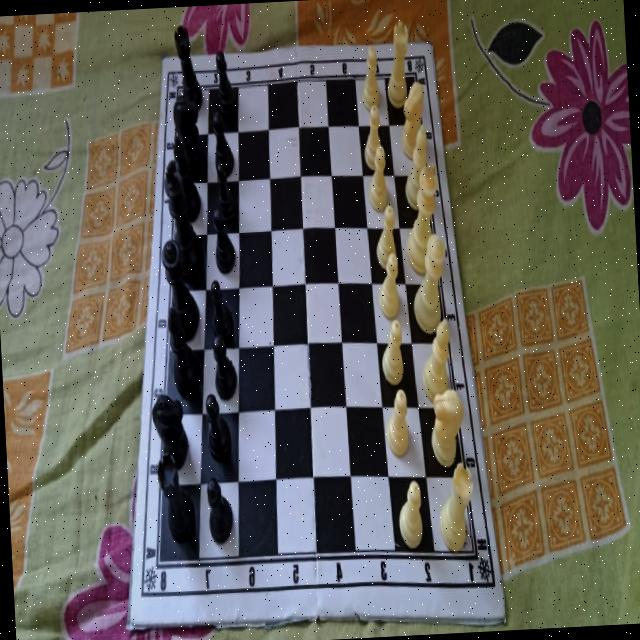corners: (124, 610, 139, 633), (422, 31, 434, 58), (496, 610, 511, 631), (160, 48, 168, 68)
